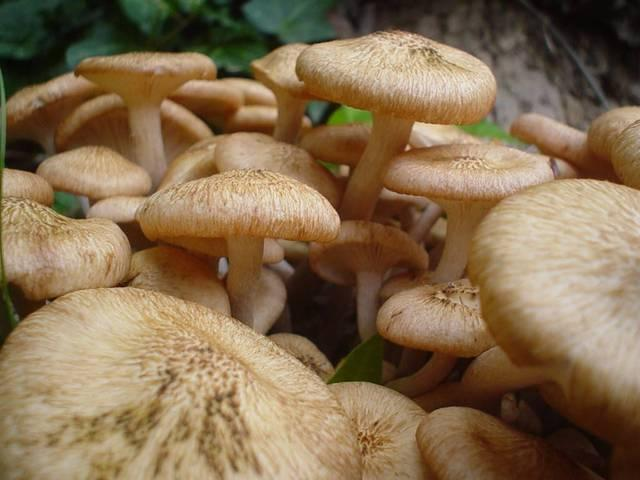edible_mushroom: (1, 28, 638, 478), (294, 28, 497, 220), (135, 167, 341, 327)
